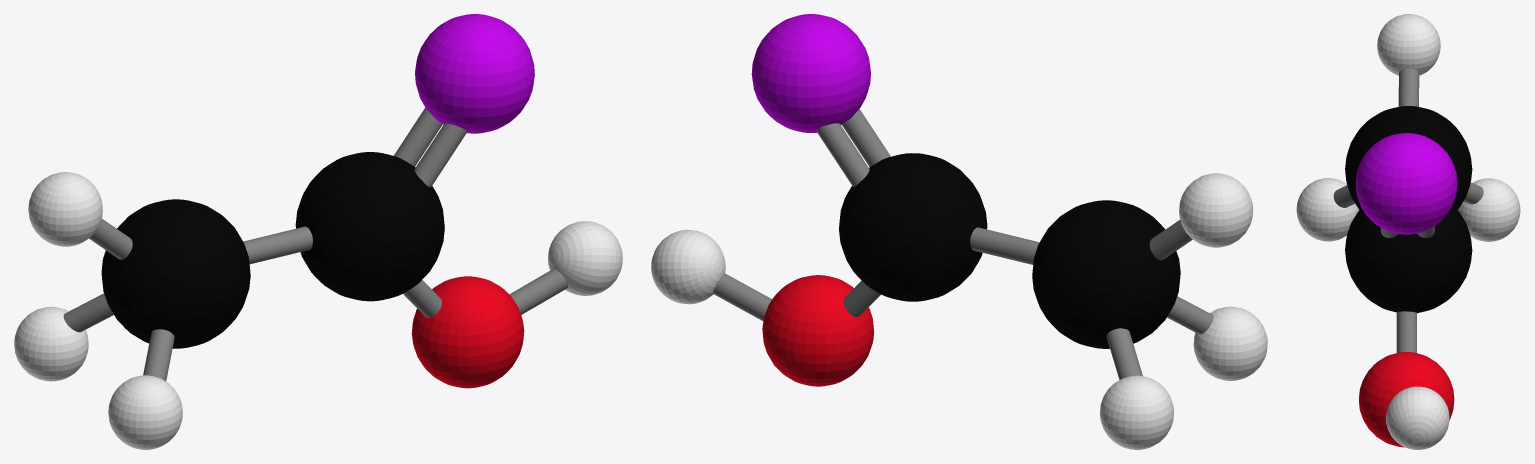
Rendered from CH3COONa.glb.
The picture shows the model from 3 angles, left to right: view 1: azimuth 30°, elevation 25°; view 2: azimuth 150°, elevation 25°; view 3: azimuth 270°, elevation 25°; orthographic projection. The views are drawn at different scales.
Visible parts, largest first — view 1: углерод 1, Sphere, кислород двойной.001, кислород двойной.002, Sphere.003, Sphere.001, Sphere.004, Sphere.002, Cylinder.002, Cylinder.006, Cylinder.008, Cylinder.001 (+4 smaller); view 2: углерод 1, Sphere, кислород двойной.001, кислород двойной.002, Sphere.003, Sphere.002, Sphere.004, Sphere.001, Cylinder.002, Cylinder.001, Cylinder.008, Cylinder.006 (+4 smaller); view 3: углерод 1, кислород двойной.001, Sphere, кислород двойной.002, Sphere.004, Sphere.003, Sphere.002, Sphere.001, Cylinder.007, Cylinder.005, Cylinder.003, Cylinder.004.
Boxes of the visible parts, left/top/right/bottom form: углерод 1: left=295, top=152, right=444, bottom=301; Sphere: left=101, top=199, right=250, bottom=348; кислород двойной.001: left=415, top=14, right=534, bottom=133; кислород двойной.002: left=411, top=276, right=524, bottom=388; Sphere.003: left=28, top=172, right=102, bottom=246; Sphere.001: left=108, top=375, right=182, bottom=449; Sphere.004: left=548, top=221, right=622, bottom=295; Sphere.002: left=14, top=306, right=88, bottom=381; Cylinder.002: left=243, top=226, right=312, bottom=264; Cylinder.006: left=414, top=123, right=467, bottom=187; Cylinder.008: left=509, top=269, right=568, bottom=314; Cylinder.001: left=394, top=107, right=442, bottom=166; углерод 1: left=839, top=153, right=987, bottom=301; Sphere: left=1032, top=200, right=1180, bottom=348; кислород двойной.001: left=751, top=14, right=870, bottom=132; кислород двойной.002: left=762, top=275, right=874, bottom=386; Sphere.003: left=1179, top=173, right=1253, bottom=247; Sphere.002: left=1100, top=375, right=1173, bottom=449; Sphere.004: left=651, top=229, right=725, bottom=304; Sphere.001: left=1193, top=306, right=1267, bottom=380; Cylinder.002: left=970, top=227, right=1039, bottom=264; Cylinder.001: left=816, top=123, right=869, bottom=186; Cylinder.008: left=713, top=273, right=771, bottom=320; Cylinder.006: left=842, top=109, right=890, bottom=166; углерод 1: left=1345, top=205, right=1472, bottom=312; кислород двойной.001: left=1355, top=133, right=1457, bottom=234; Sphere: left=1345, top=106, right=1472, bottom=209; кислород двойной.002: left=1359, top=352, right=1454, bottom=447; Sphere.004: left=1386, top=386, right=1449, bottom=449; Sphere.003: left=1377, top=14, right=1440, bottom=75; Sphere.002: left=1458, top=178, right=1520, bottom=241; Sphere.001: left=1296, top=178, right=1359, bottom=241; Cylinder.007: left=1396, top=311, right=1416, bottom=352; Cylinder.005: left=1398, top=68, right=1419, bottom=106; Cylinder.003: left=1333, top=185, right=1354, bottom=207; Cylinder.004: left=1463, top=182, right=1483, bottom=204.
Size of the model in its own units: 4.56 by 2.67 by 1.76.
